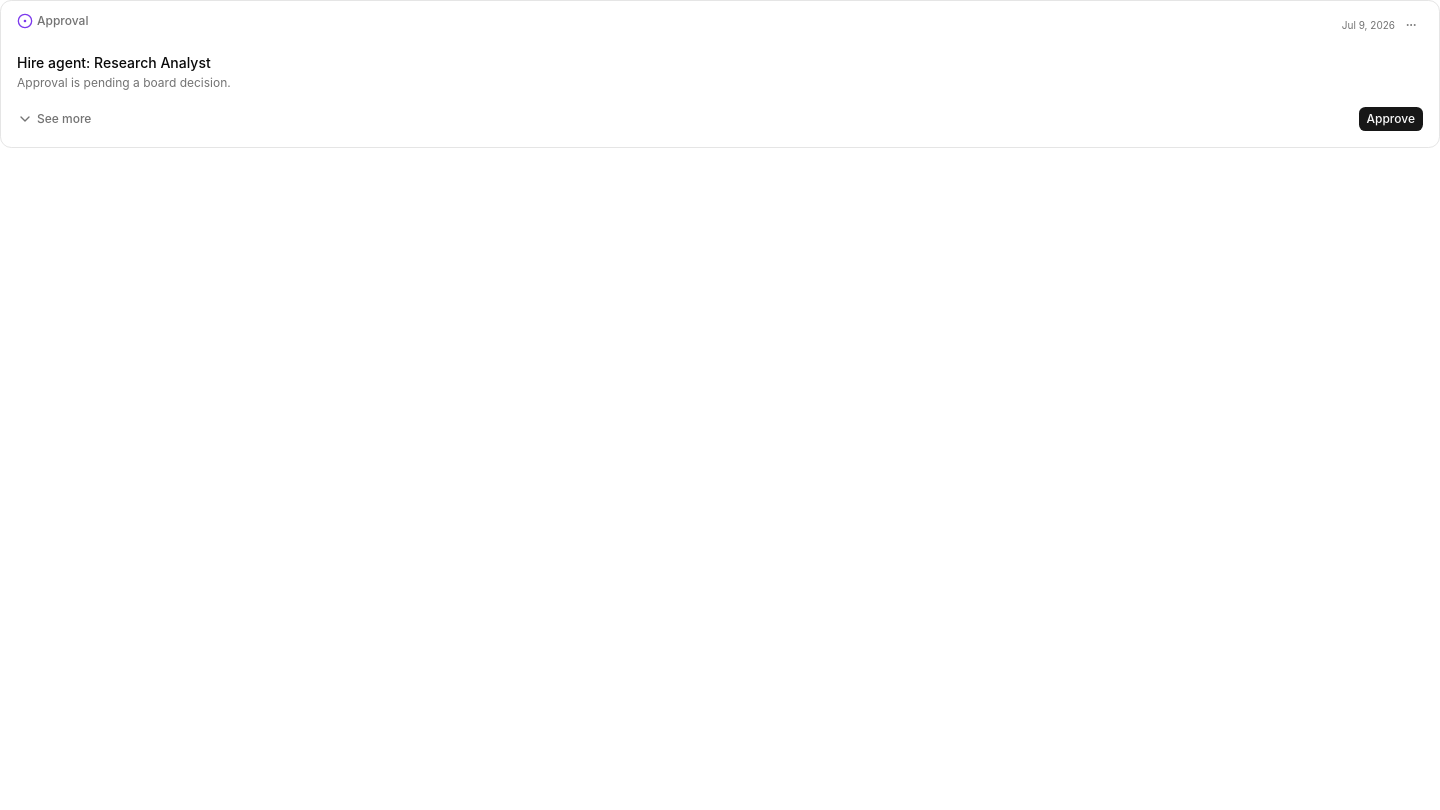
Test: AttentionQueueRow › submits a compact approval without expanding the card and confirms it
Click the button "Approve": click(1391, 119) [1358,107,1423,131]
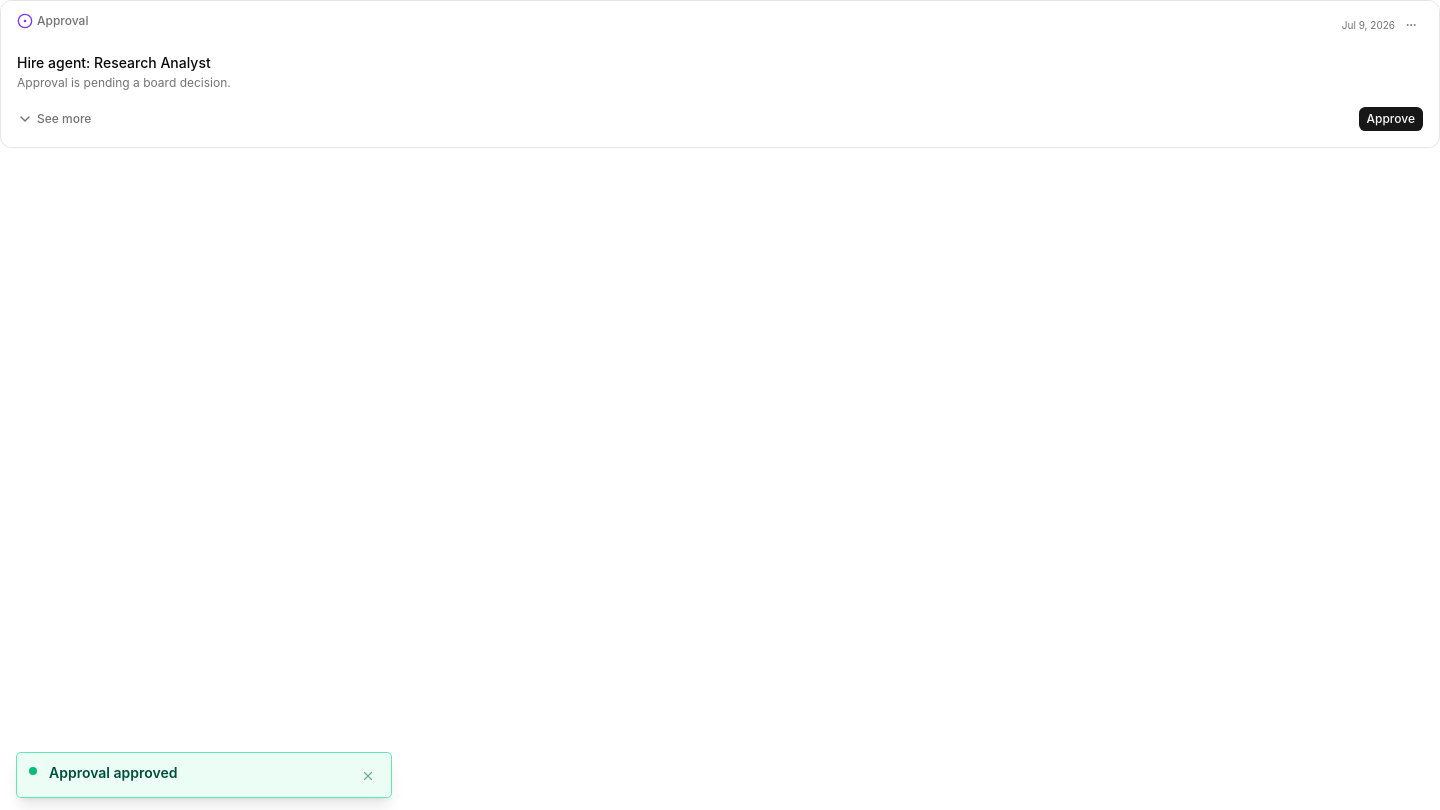
Expected: the text "Approval approved" is shown, [49,764,178,781]
